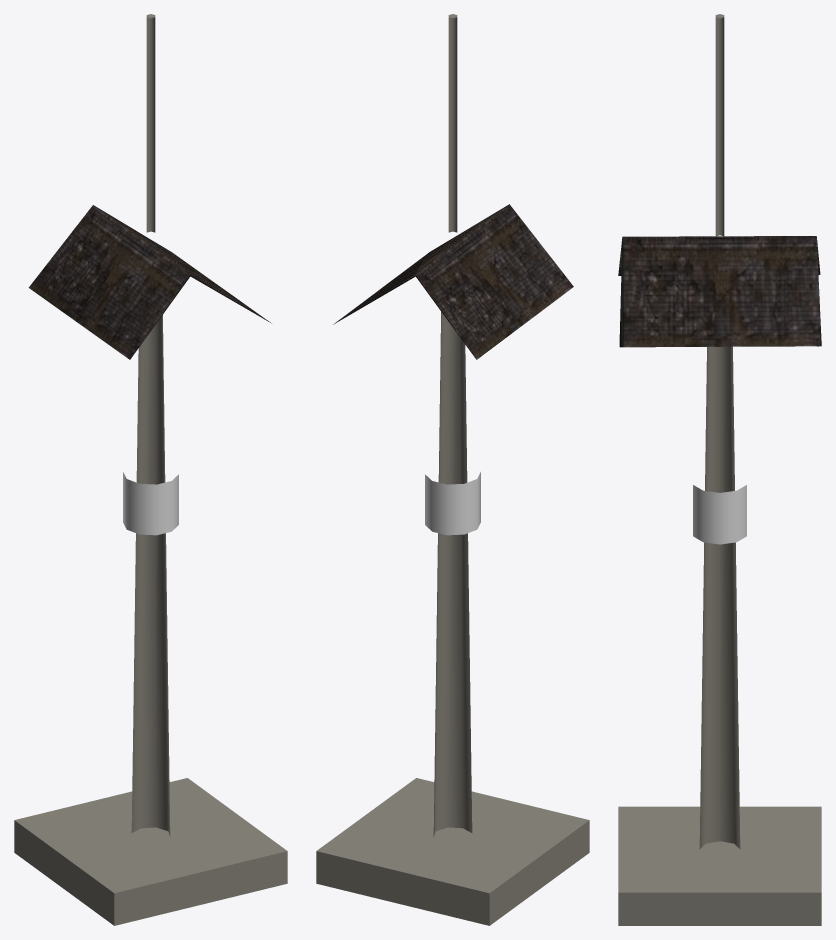
3 views of the same model, side by side, from view 1: azimuth 30°, elevation 25°; view 2: azimuth 150°, elevation 25°; view 3: azimuth 270°, elevation 25° (orthographic).
Visible parts, largest first — view 1: dweller_building_beacon; view 2: dweller_building_beacon; view 3: dweller_building_beacon.
Boxes of the visible parts, <box> form: dweller_building_beacon: <box>14,14,287,925</box>; dweller_building_beacon: <box>316,14,589,925</box>; dweller_building_beacon: <box>618,14,821,925</box>.
Size of the model in its own units: 1 by 4.7 by 1.
3 materials, 1 textured.
